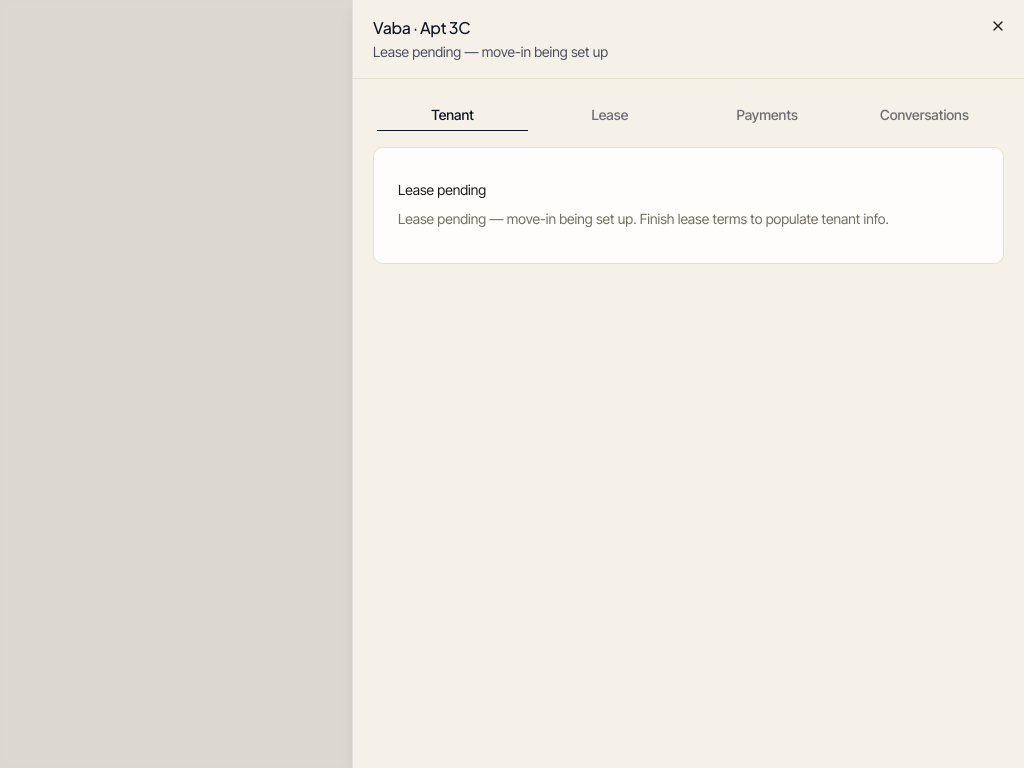
Test case: UnitDetailDrawer › open with pending-move-in unit › renders lease-pending placeholders on the Tenant and Lease tabs
Expected: the element with test id "unit-detail-drawer-tenant-empty" shows "Finish lease terms to populate tenant info.", [398, 210, 889, 227]
Click the tab with test id "unit-detail-tab-lease": (610, 115) [533, 102, 687, 128]
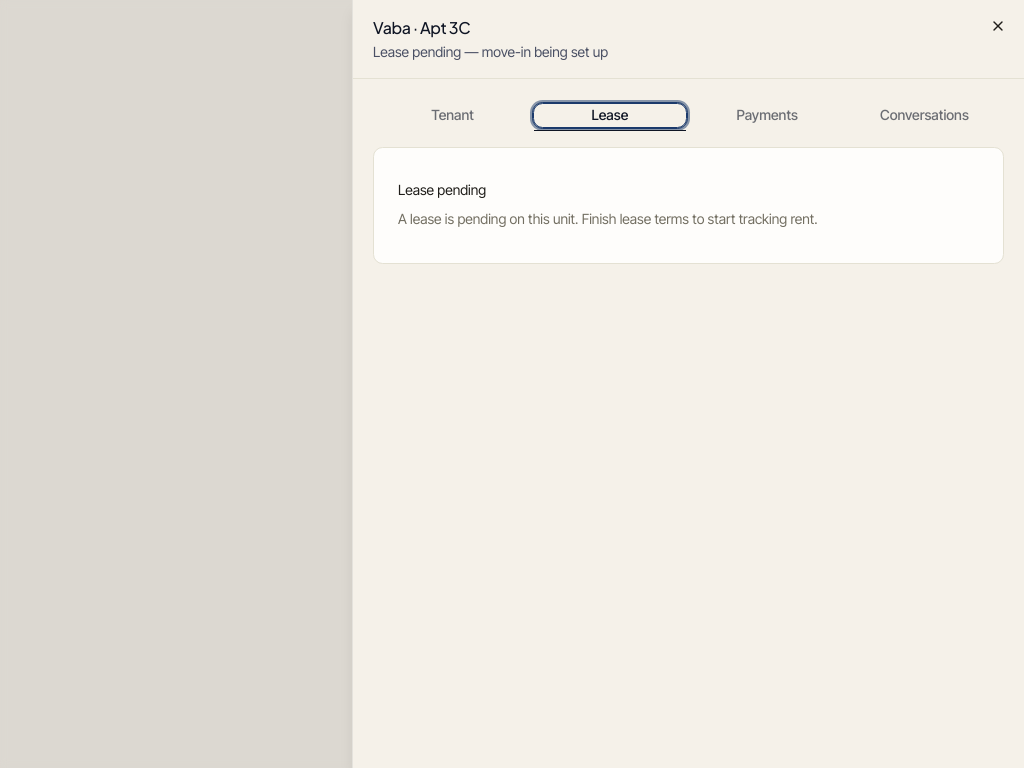
Now the element with test id "unit-detail-drawer-lease-empty" shows "Finish lease terms to start tracking rent.", box [398, 210, 818, 227]
